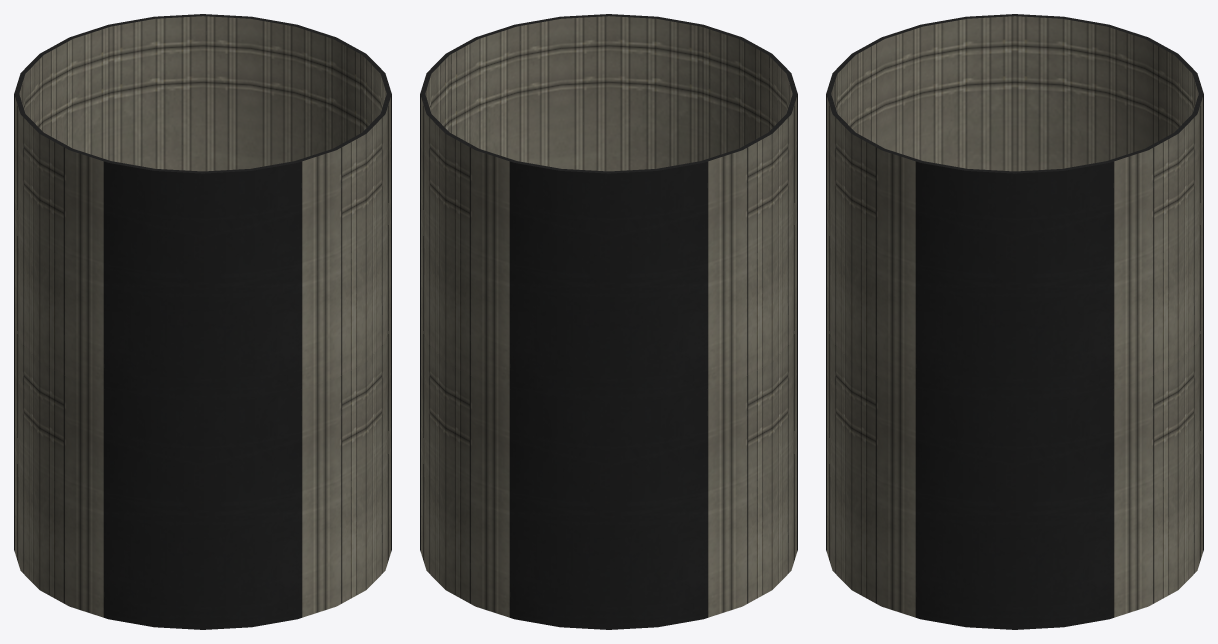
Rendered from rd120fairing.obj.
The picture shows the model from 3 angles, left to right: view 1: azimuth 30°, elevation 25°; view 2: azimuth 150°, elevation 25°; view 3: azimuth 270°, elevation 25°; orthographic projection.
Parts seen in each view (by area): view 1: fairing1; view 2: fairing1; view 3: fairing1.
Boxes of the visible parts, x1,y1,x2,y2 form: fairing1: (14, 14, 391, 629); fairing1: (420, 14, 797, 629); fairing1: (826, 14, 1203, 629).
Bounding box in the file's own units: 1.88 × 2.5 × 1.88.
